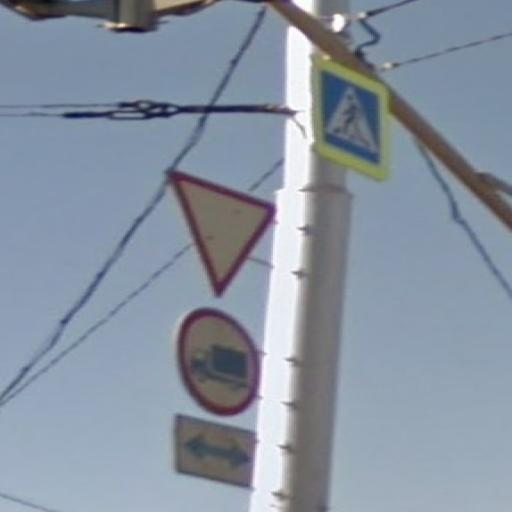traffic_sign: (165, 169, 279, 298), (310, 54, 394, 184), (176, 309, 261, 419)
